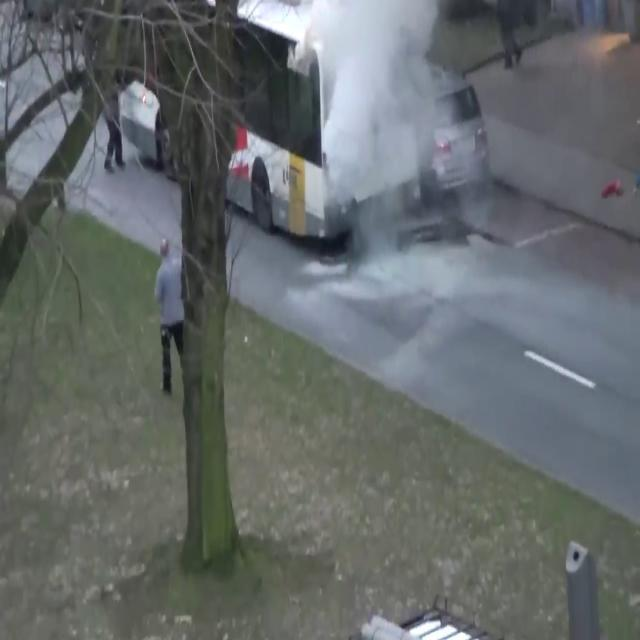Smoke: (290, 0, 472, 254)
